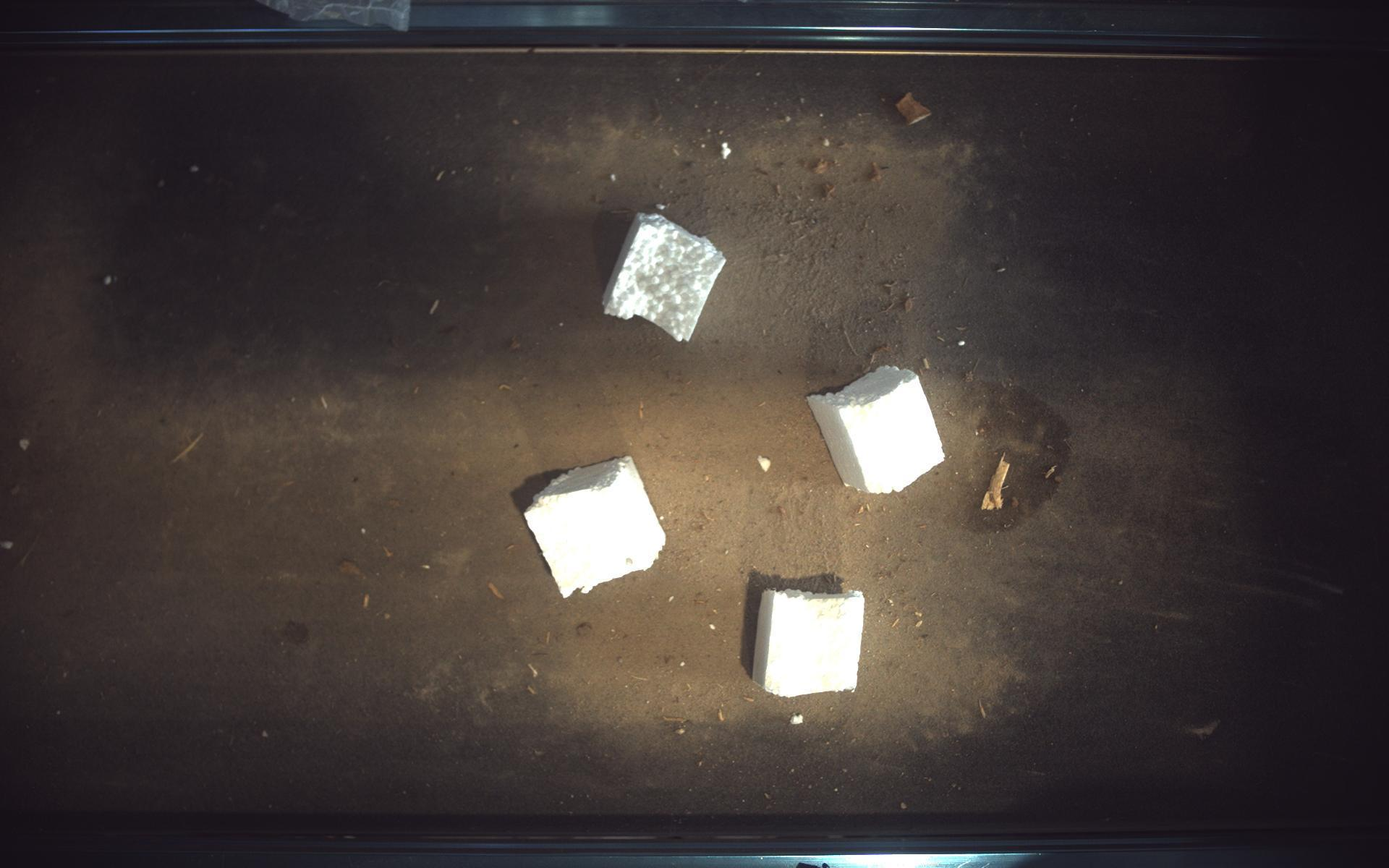foam: (525, 457, 666, 598), (809, 365, 947, 493), (603, 212, 726, 341), (754, 590, 866, 698)
